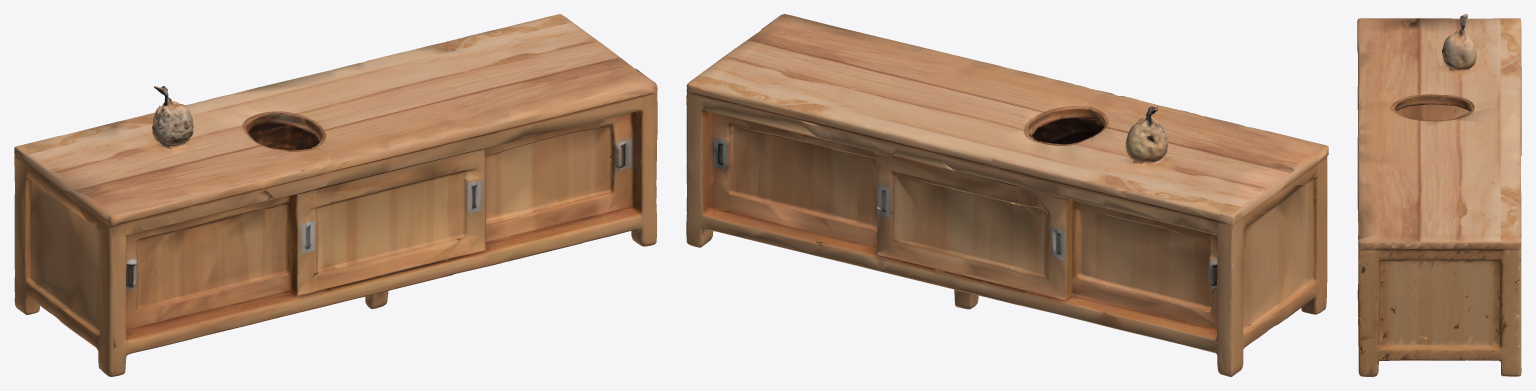
File: coffee-tek-meuble-tv-180_clean.glb
3 views of the same model, side by side, from view 1: azimuth 30°, elevation 25°; view 2: azimuth 150°, elevation 25°; view 3: azimuth 270°, elevation 25° (orthographic). The views are drawn at different scales.
Size of the model in its own units: 2 by 0.7681 by 0.6206.
Materials: 1 (1 with a texture image).
